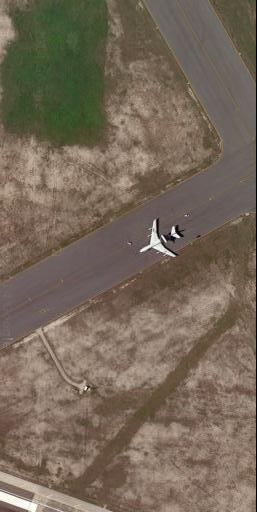E-3: (137, 217, 183, 266)
